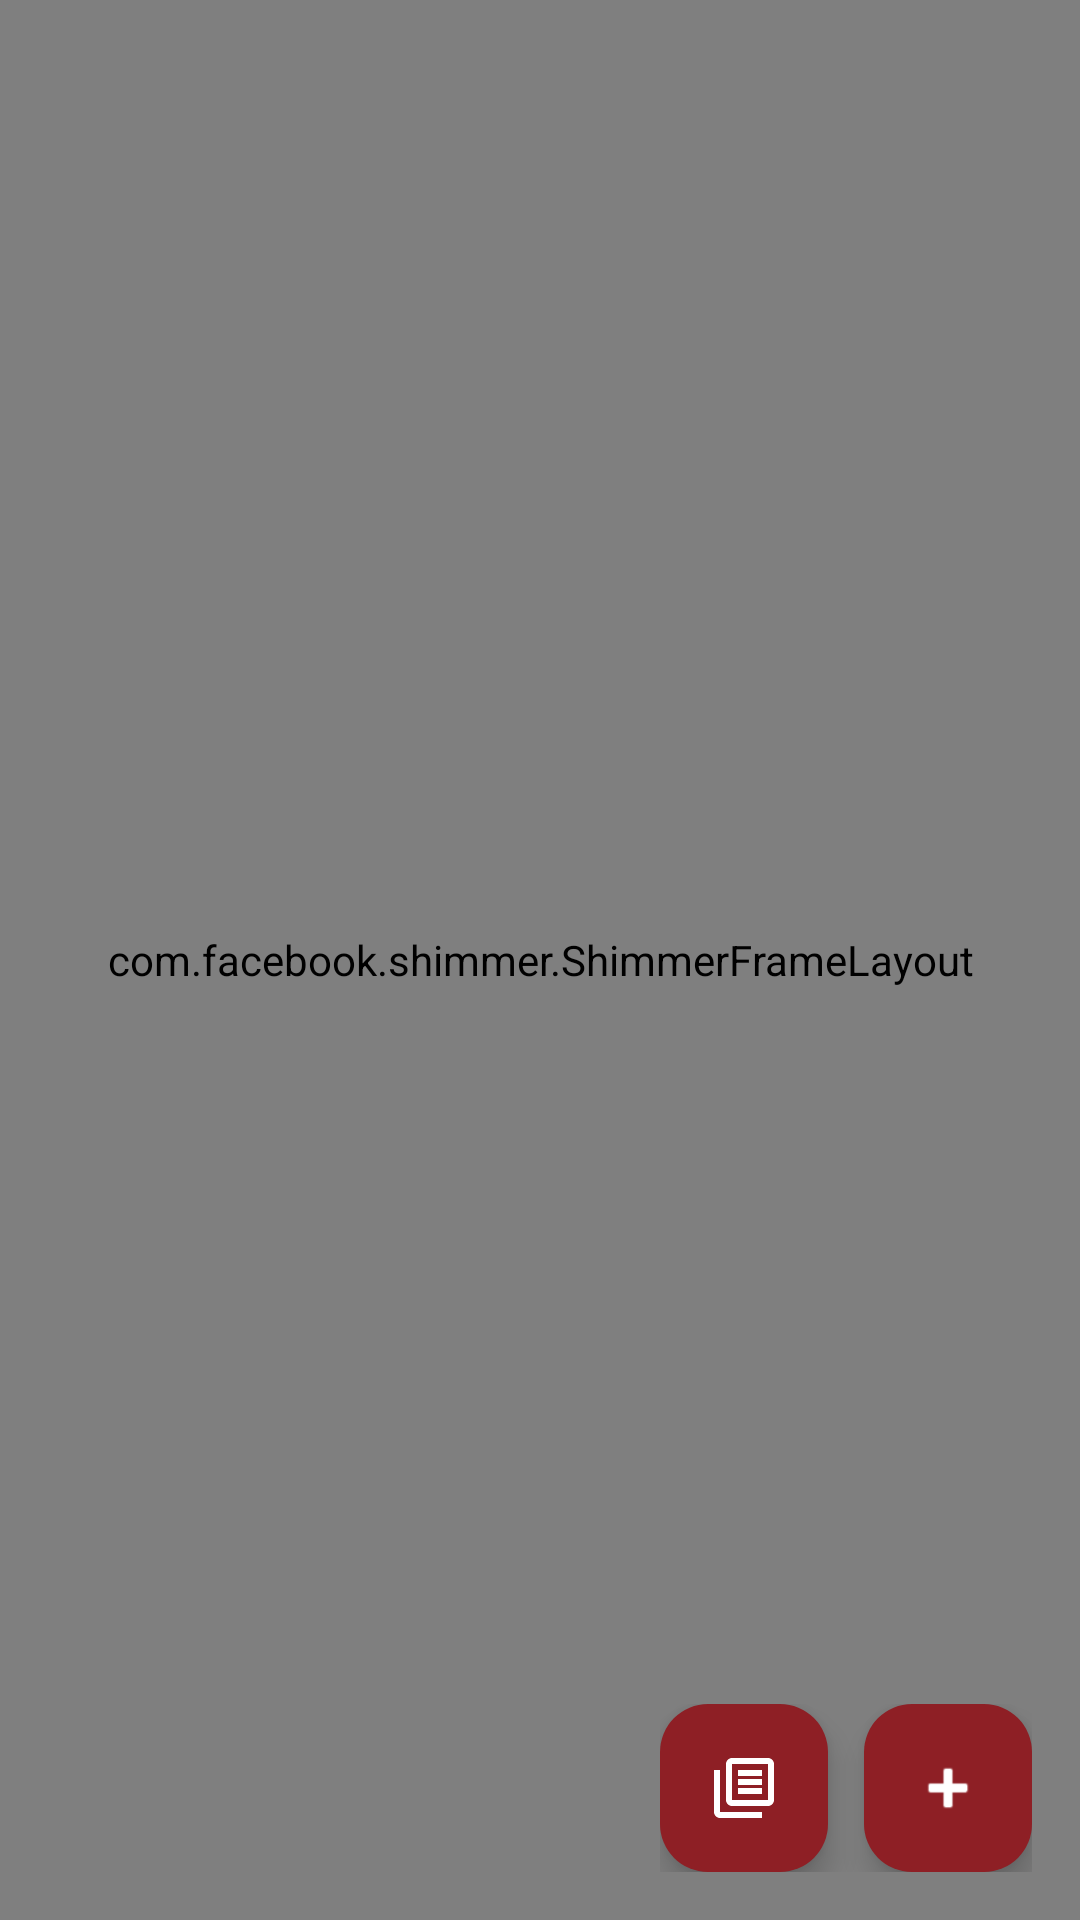

Point at icon controls on the screen. Image size 1080x1920, points as (x,y).
Novo registro: (948,1788)
